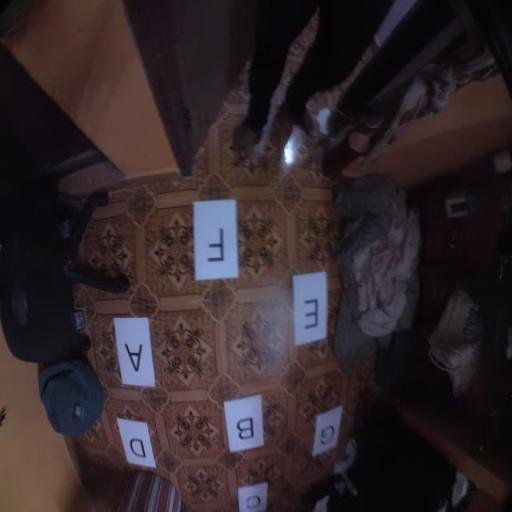A: (114, 317, 155, 386)
B: (224, 394, 264, 452)
C: (238, 482, 268, 512)
D: (117, 418, 156, 468)
E: (293, 272, 327, 346)
F: (193, 200, 238, 280)
G: (312, 406, 342, 456)
